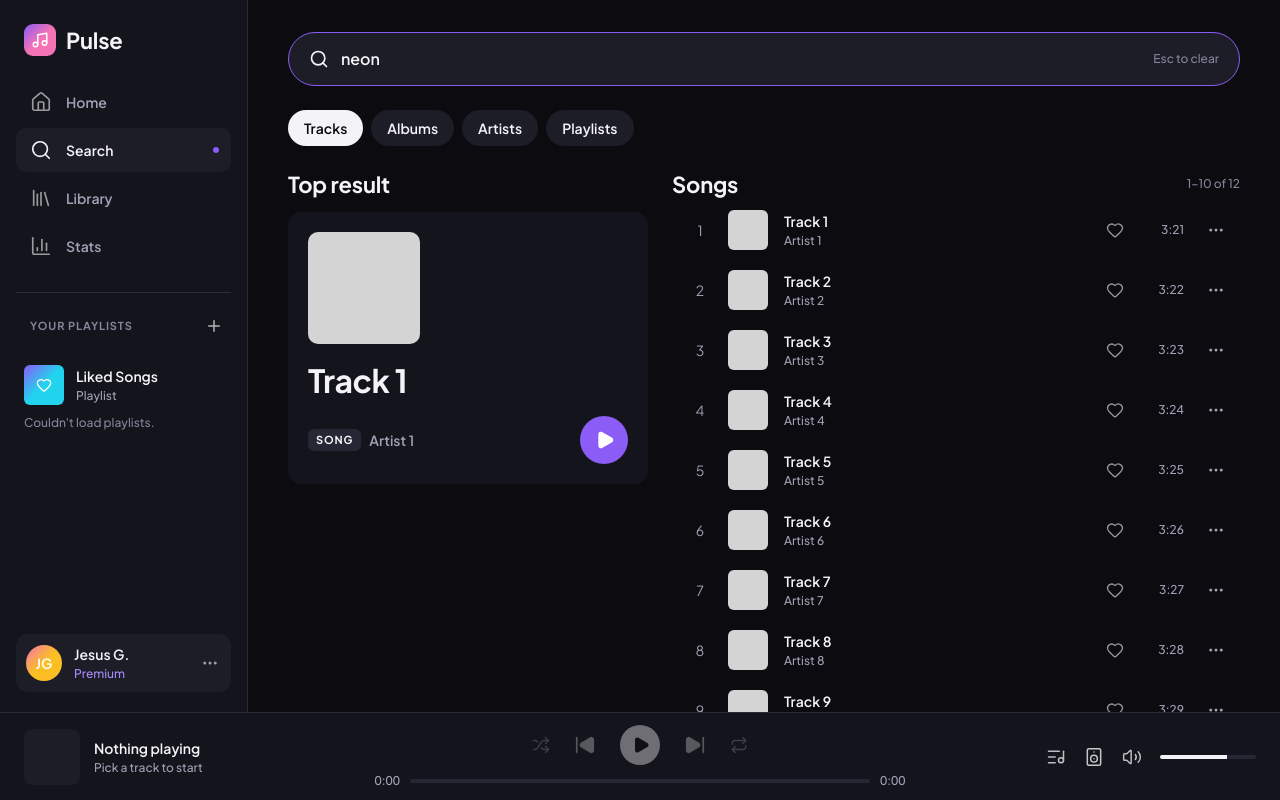
Test: SearchPage › switches filters with chips and links artists to their page
The width and height of the screenshot is (1280, 800).
Click the button "Artists": coordinates (500, 128) [462, 110, 538, 146]
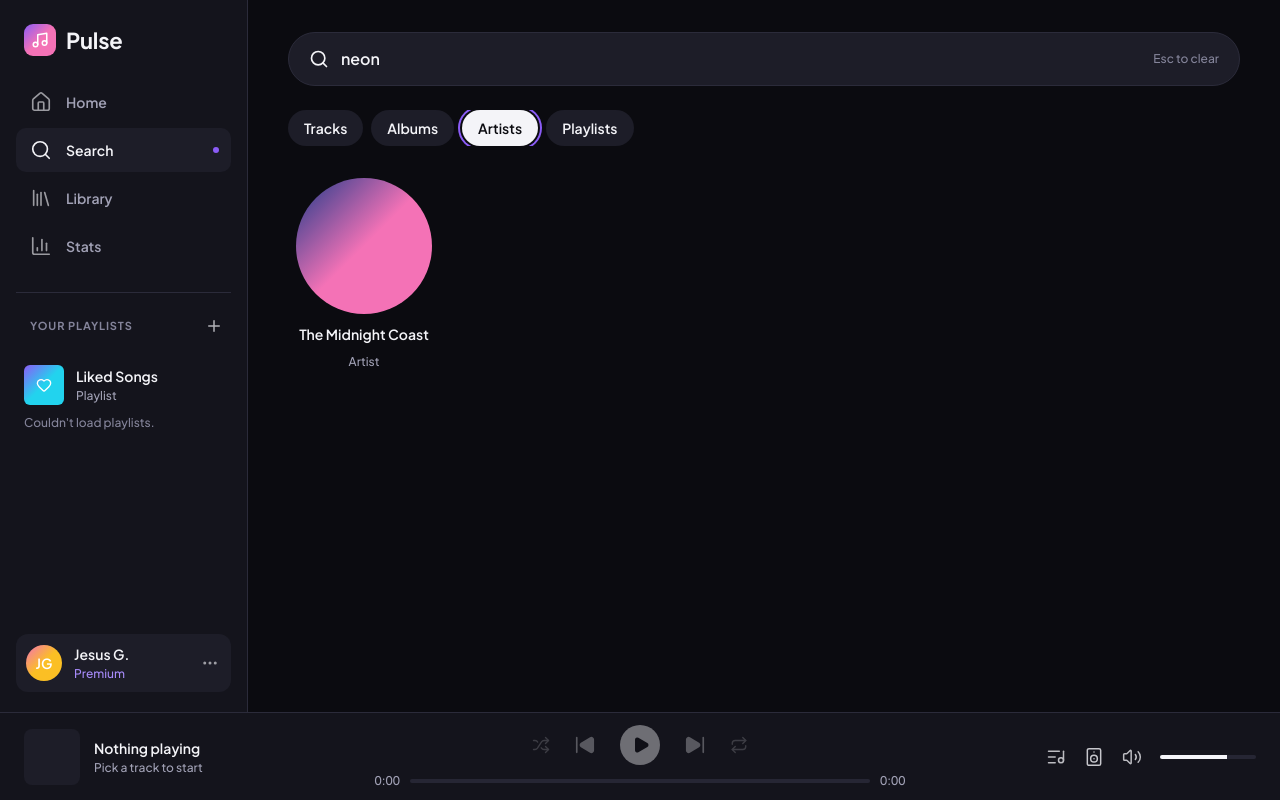
expect the button "Artists" is pressed: met, box [462, 110, 538, 146]
